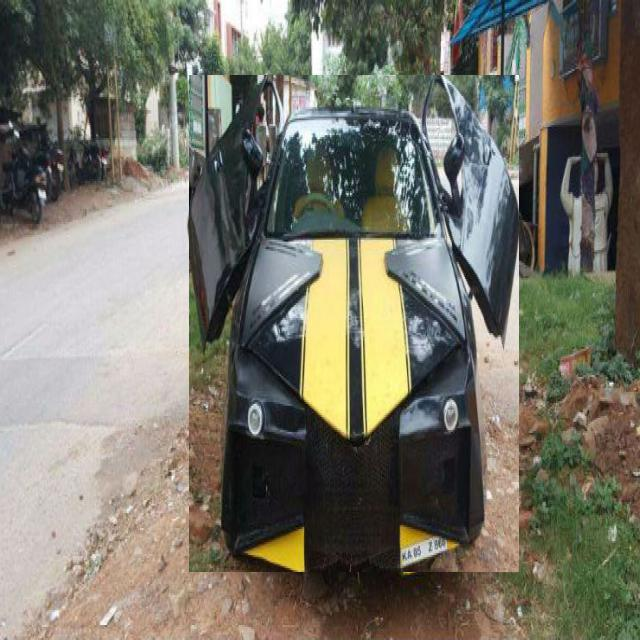accident: (189, 75, 519, 572)
